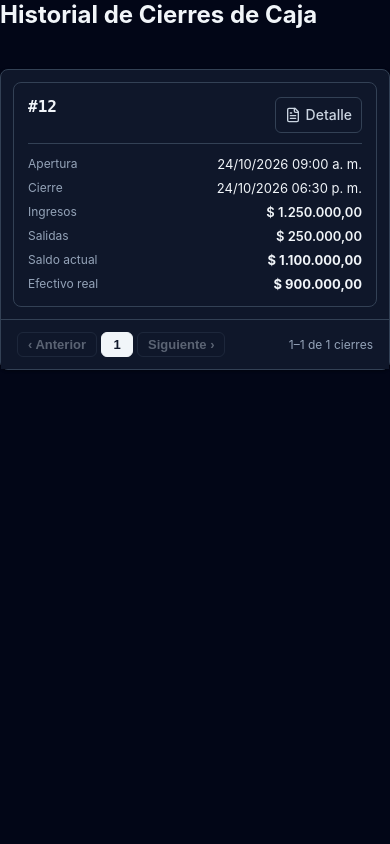
Test: CashHistoryPage responsive presentation › keeps closure selection and renders the mobile detail movements
Click the button with test id "cash-history-mobile-card": (195, 120) [13, 82, 377, 307]
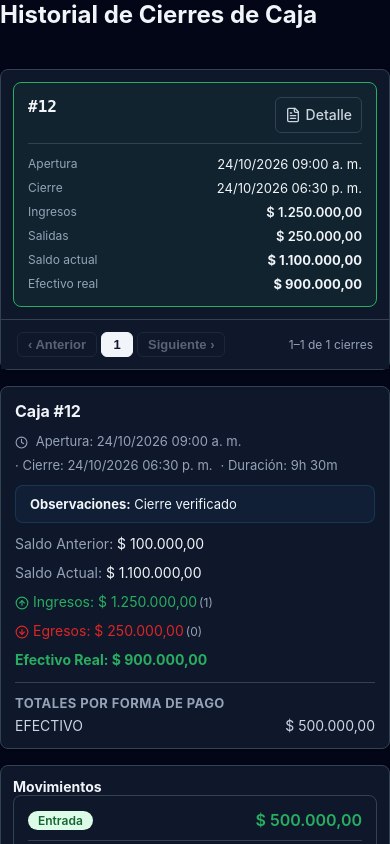
Now the text "Totales por forma de pago" is shown, box [15, 695, 225, 711]
Now the text "$ 500.000,00" in the row of "Entrada" is shown, box [256, 810, 362, 830]
